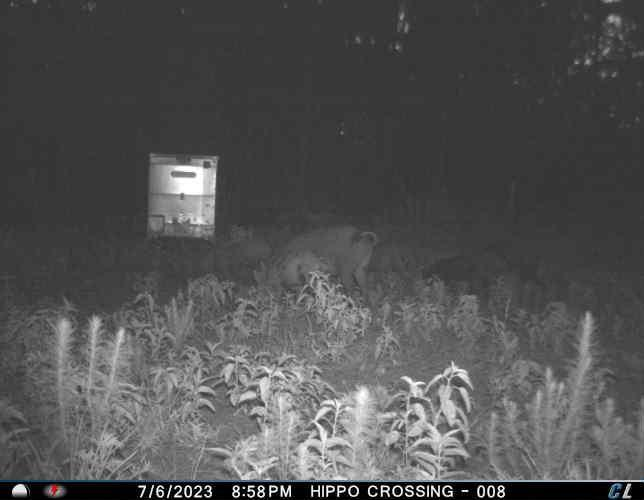Hog: (251, 219, 382, 308)
